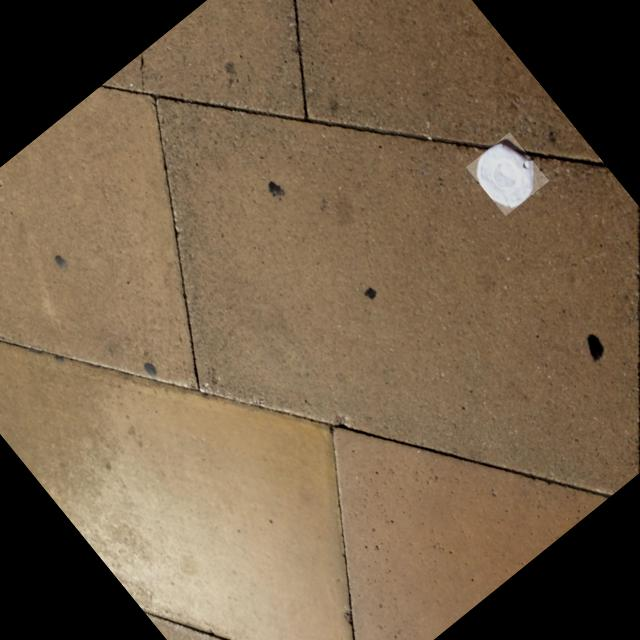Lid: (478, 143, 535, 207)
